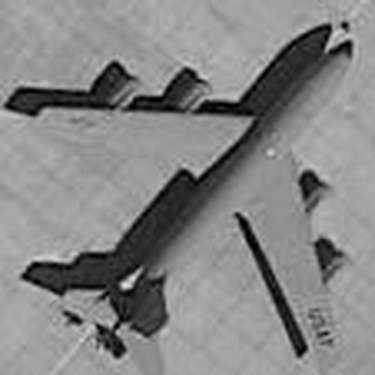airplane: (14, 16, 363, 365)
